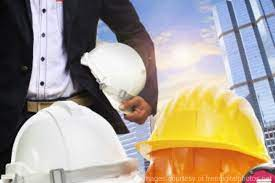Helmet: (146, 85, 275, 180), (5, 99, 137, 183), (91, 41, 146, 111)
No-jacket: (2, 2, 103, 114)
